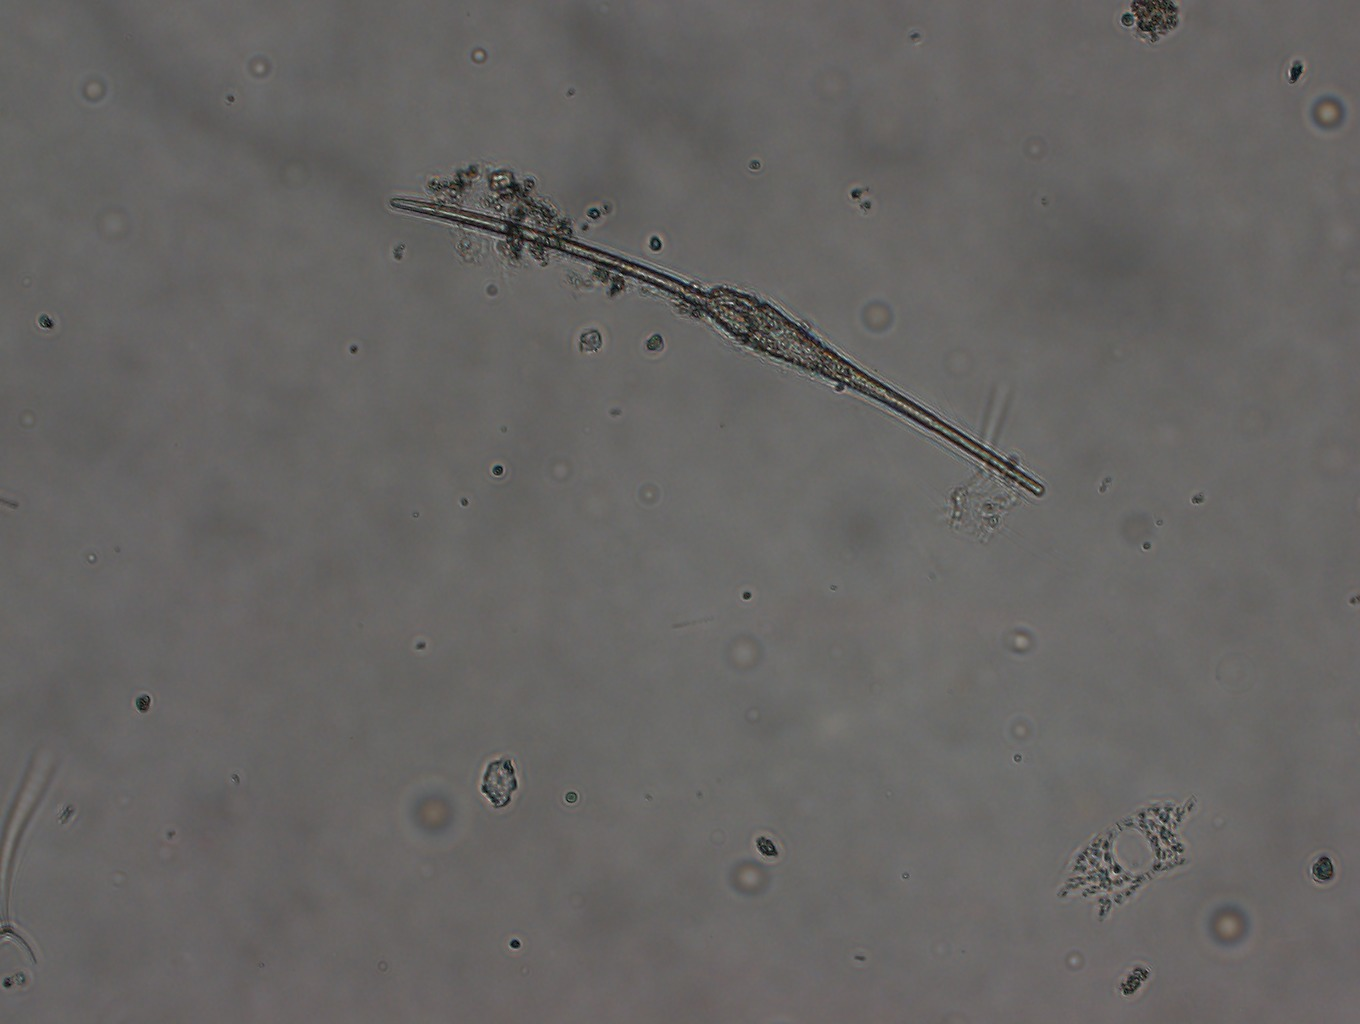ceratium fusus: (377, 187, 1053, 514)
eucampia: (1053, 787, 1201, 920)
